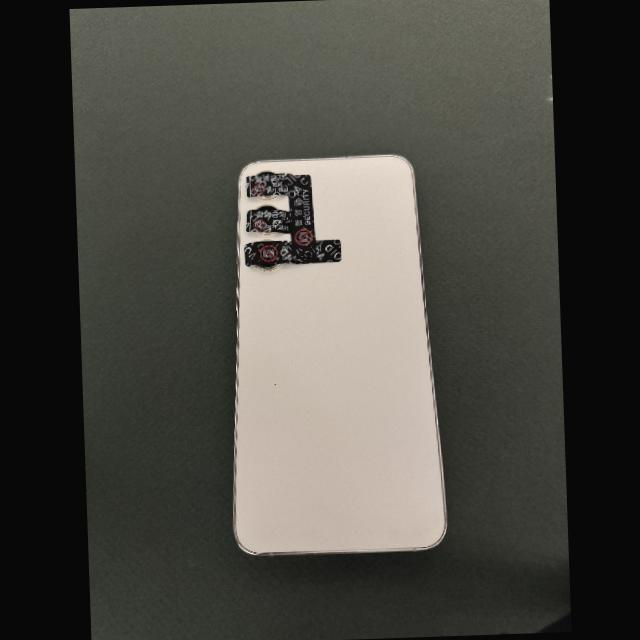lens: (256, 263, 281, 270), (256, 204, 279, 210), (255, 196, 276, 199)
phone: (234, 154, 446, 554)
sticker: (243, 239, 341, 266), (246, 172, 292, 197), (245, 209, 290, 234)
